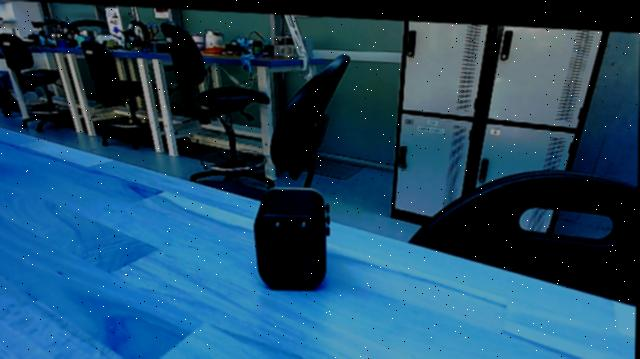adapter: (249, 179, 332, 293)
